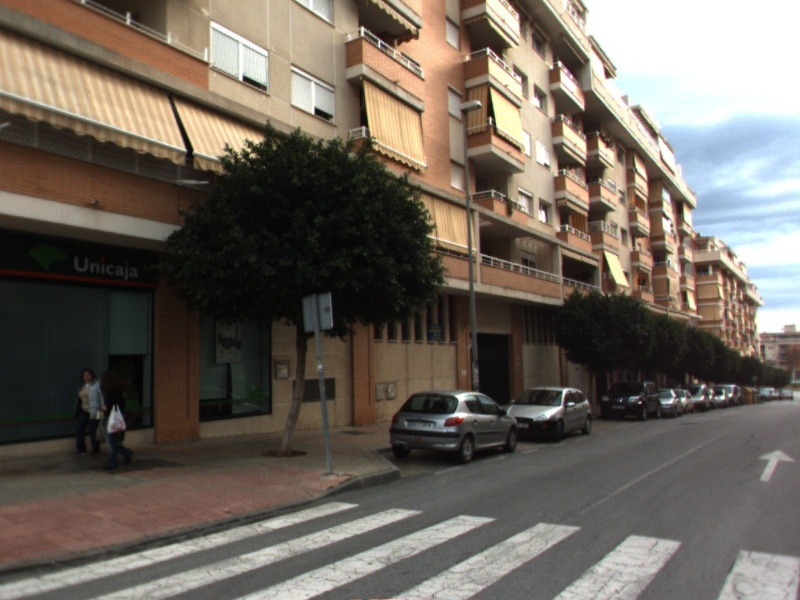STRAIGHT: (755, 448, 797, 483)
